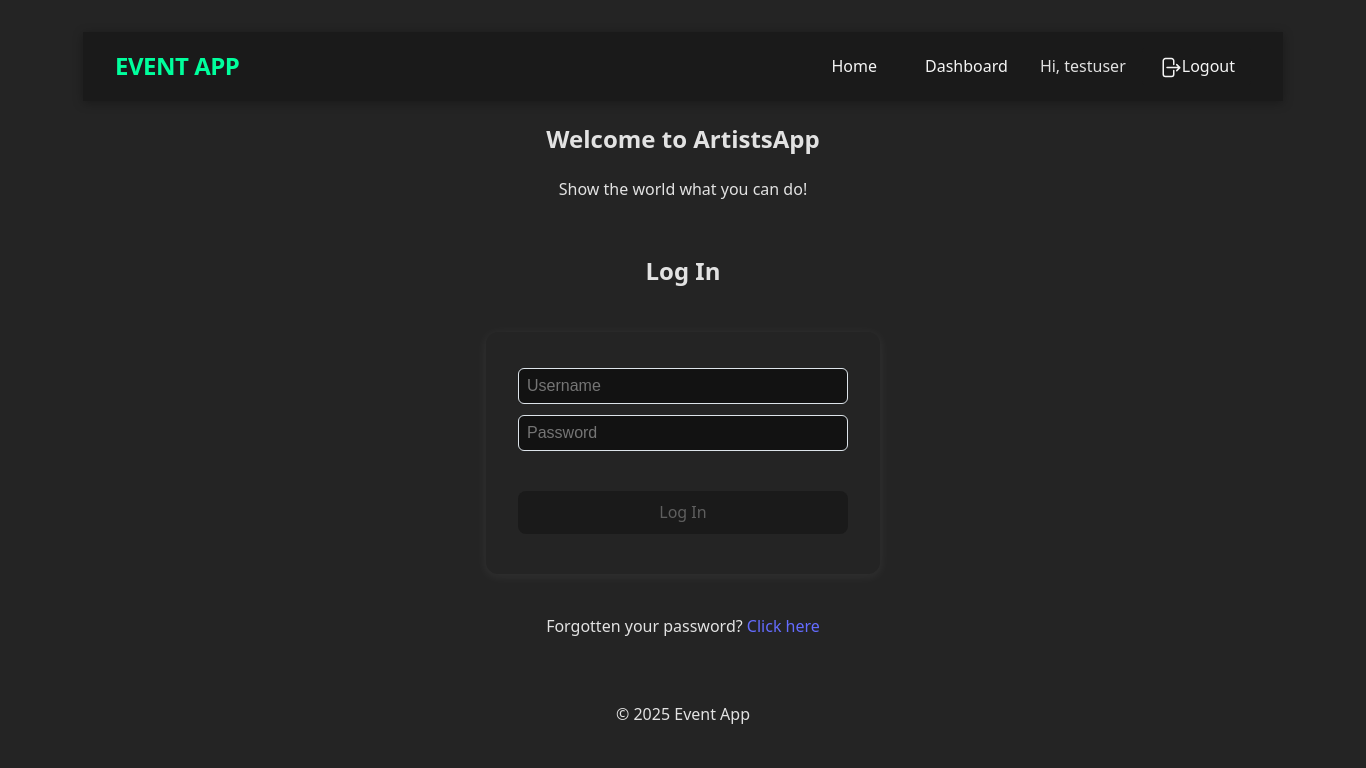
Test: Login › write on input fields and fail login
Note: Type on fields
Step 1. Type "example" into the field with placeholder "Username" → (683, 386), box x1=518 y1=368 x2=848 y2=404
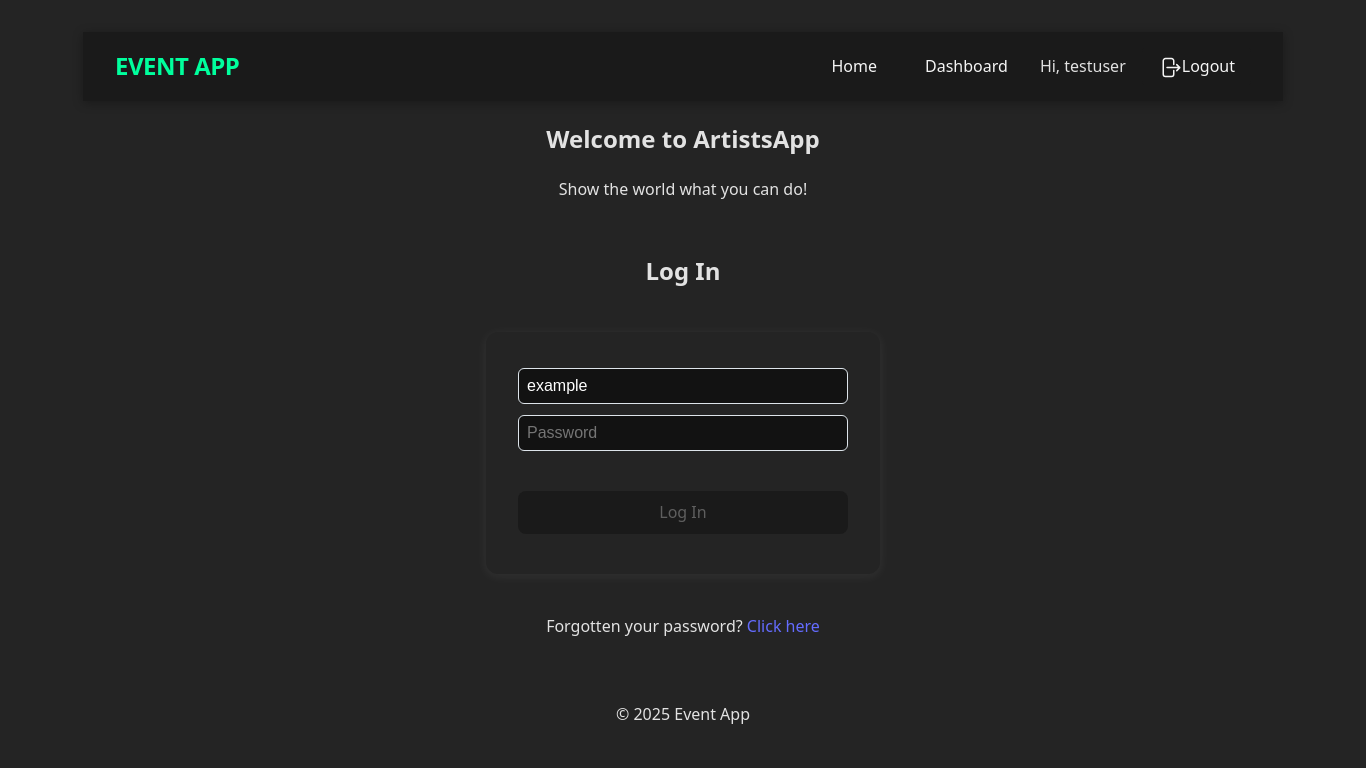
Step 2. Type "1234" into the password field with placeholder "Password" → (683, 433), box x1=518 y1=415 x2=848 y2=451
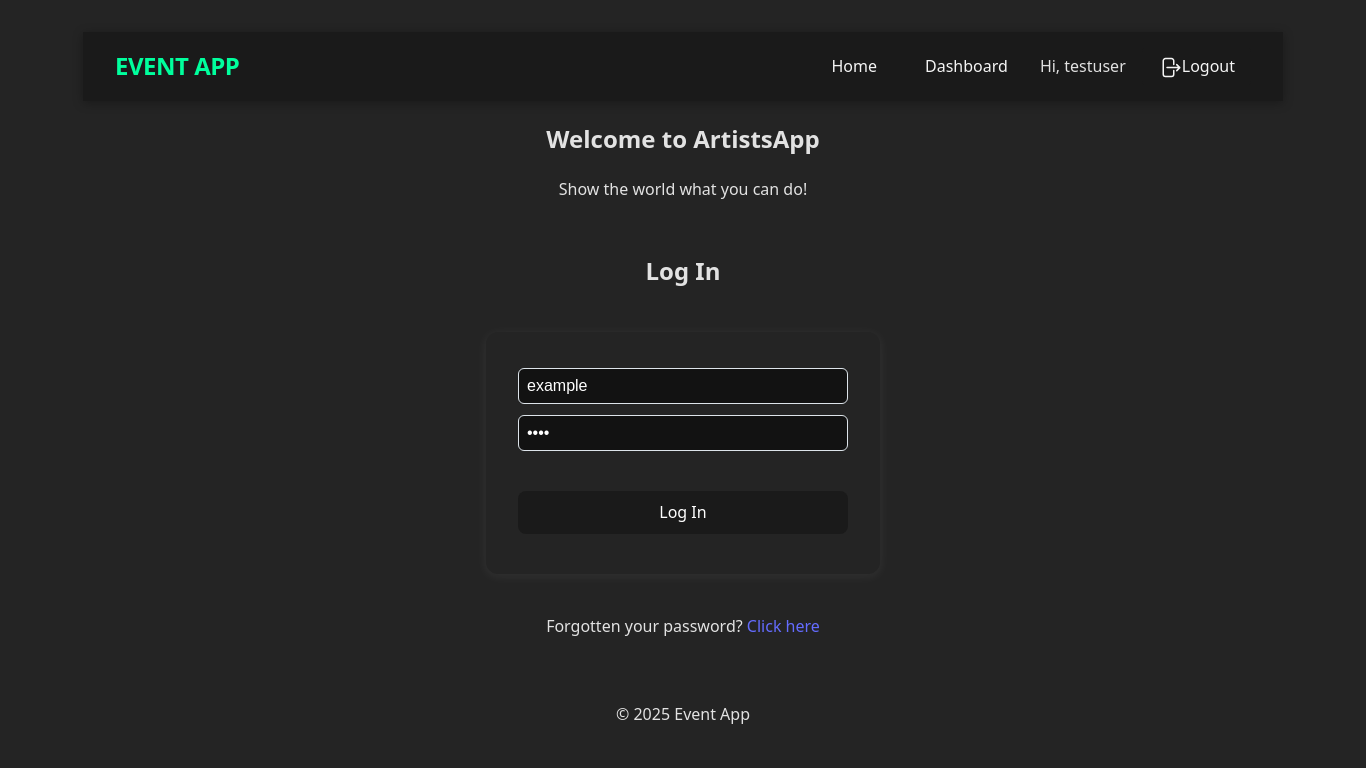
Note: Click on login button
Step 3. Click the button "Log In" → (683, 512), box x1=518 y1=491 x2=848 y2=534
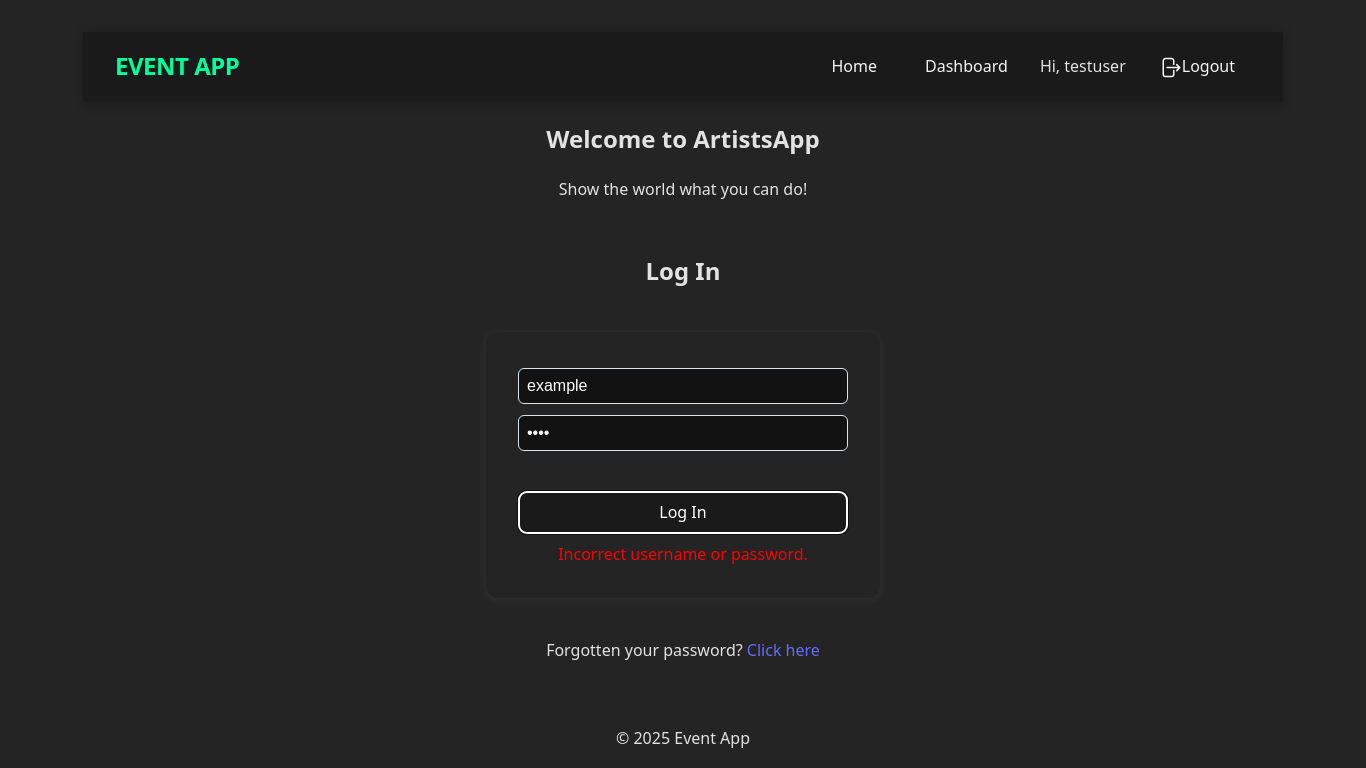
Expected: the text with test id "error-message" reads "Incorrect username or password.", x1=558 y1=543 x2=808 y2=565
